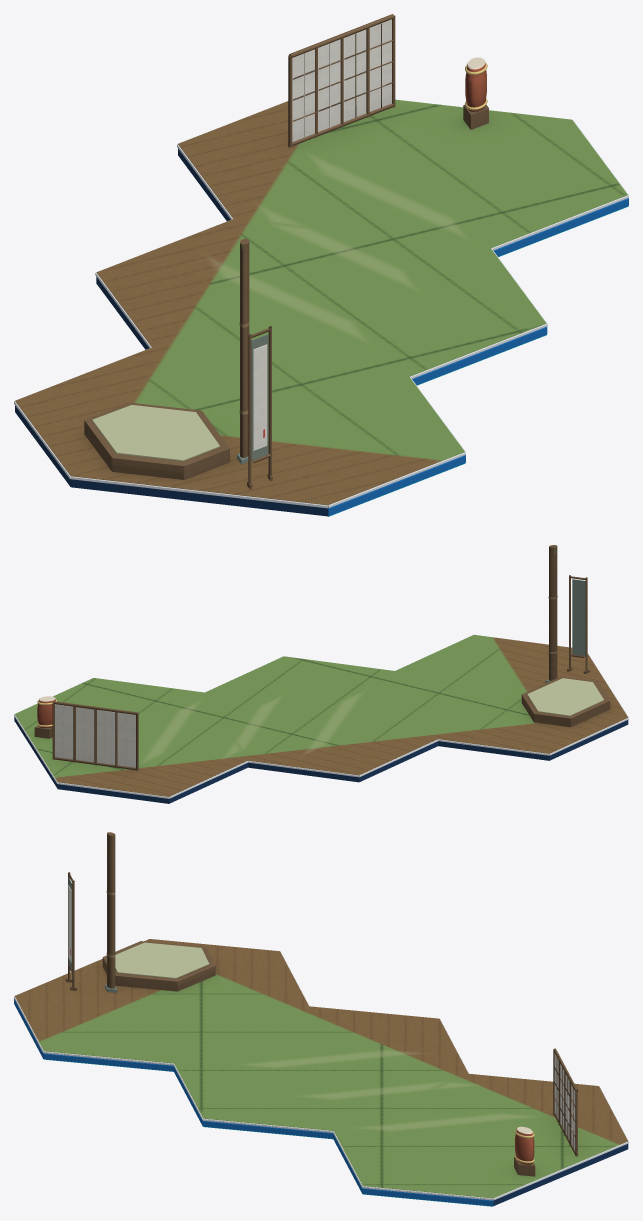
The model's file is field_cm04_01.glb.
3 renders of one model, top to bottom at view 1: azimuth 30°, elevation 25°; view 2: azimuth 150°, elevation 25°; view 3: azimuth 270°, elevation 25°, orthographic. The views are drawn at different scales.
Visible parts, largest first — view 1: field_cm04_01-refined; view 2: field_cm04_01-refined; view 3: field_cm04_01-refined.
Boxes of the visible parts, <box> form: field_cm04_01-refined: <box>14,14,628,516</box>; field_cm04_01-refined: <box>14,545,628,803</box>; field_cm04_01-refined: <box>14,832,628,1206</box>.
Size of the model in its own units: 16.36 by 4.84 by 16.36.
Materials: 1 (1 with a texture image).
